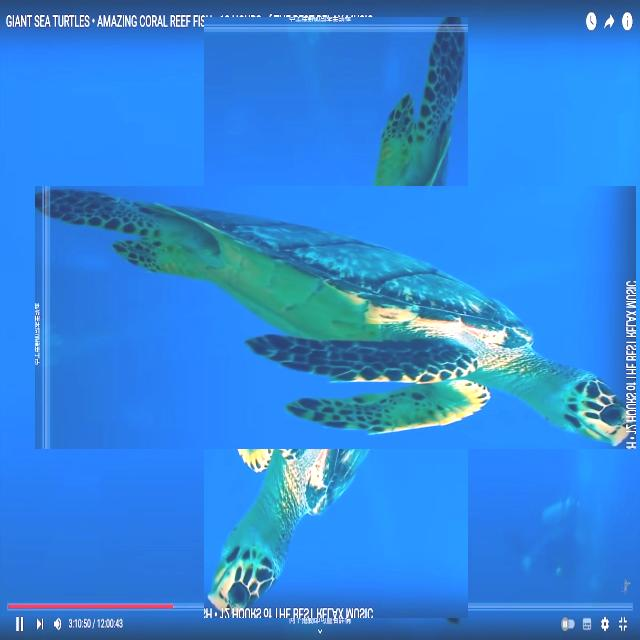Sea turtle: (120, 101, 552, 534)
